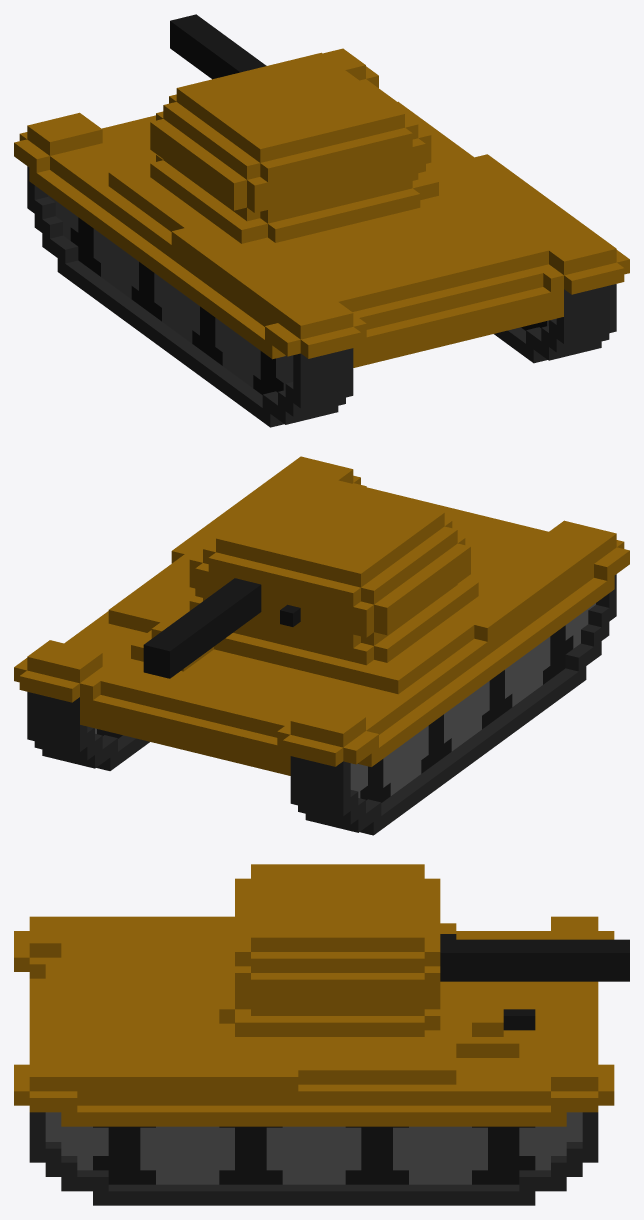
Rendered from BRITISH-TANK.fbx.
3 views of the same model, one above another, from view 1: azimuth 30°, elevation 25°; view 2: azimuth 150°, elevation 25°; view 3: azimuth 270°, elevation 25° (orthographic). The views are drawn at different scales.
Parts seen in each view (by area): view 1: node_a0dc8051_b837_40b0_ad2b_144d8f1e1aae_mesh0; view 2: node_a0dc8051_b837_40b0_ad2b_144d8f1e1aae_mesh0; view 3: node_a0dc8051_b837_40b0_ad2b_144d8f1e1aae_mesh0.
Boxes of the visible parts, box(x1,y1,x2,y2) form: node_a0dc8051_b837_40b0_ad2b_144d8f1e1aae_mesh0: box(14, 14, 629, 427); node_a0dc8051_b837_40b0_ad2b_144d8f1e1aae_mesh0: box(14, 456, 629, 835); node_a0dc8051_b837_40b0_ad2b_144d8f1e1aae_mesh0: box(14, 864, 629, 1205).
Size of the model in its own units: 2600 by 1500 by 3900.
1 material, 1 textured.
